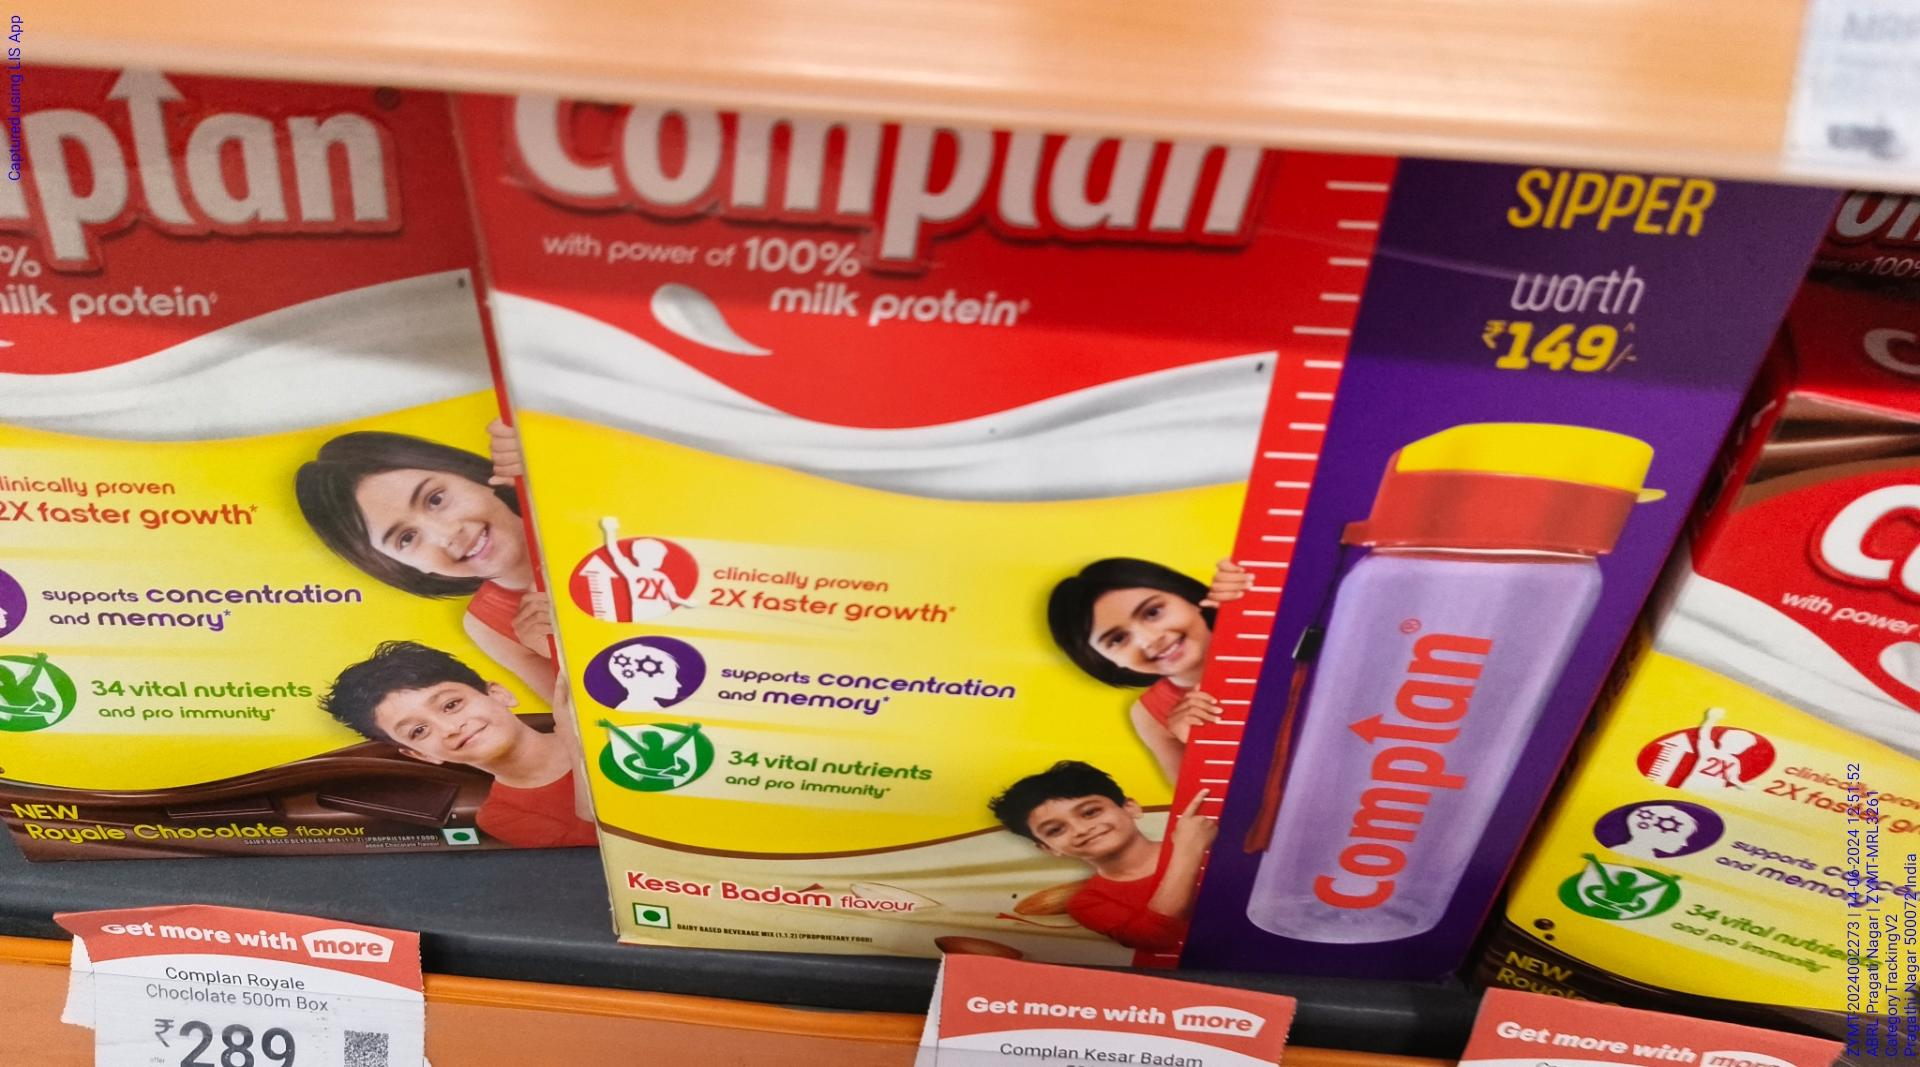COMPLAN_KESAR_BADAM_500_GMS_PACK: (544, 87, 1534, 980)
